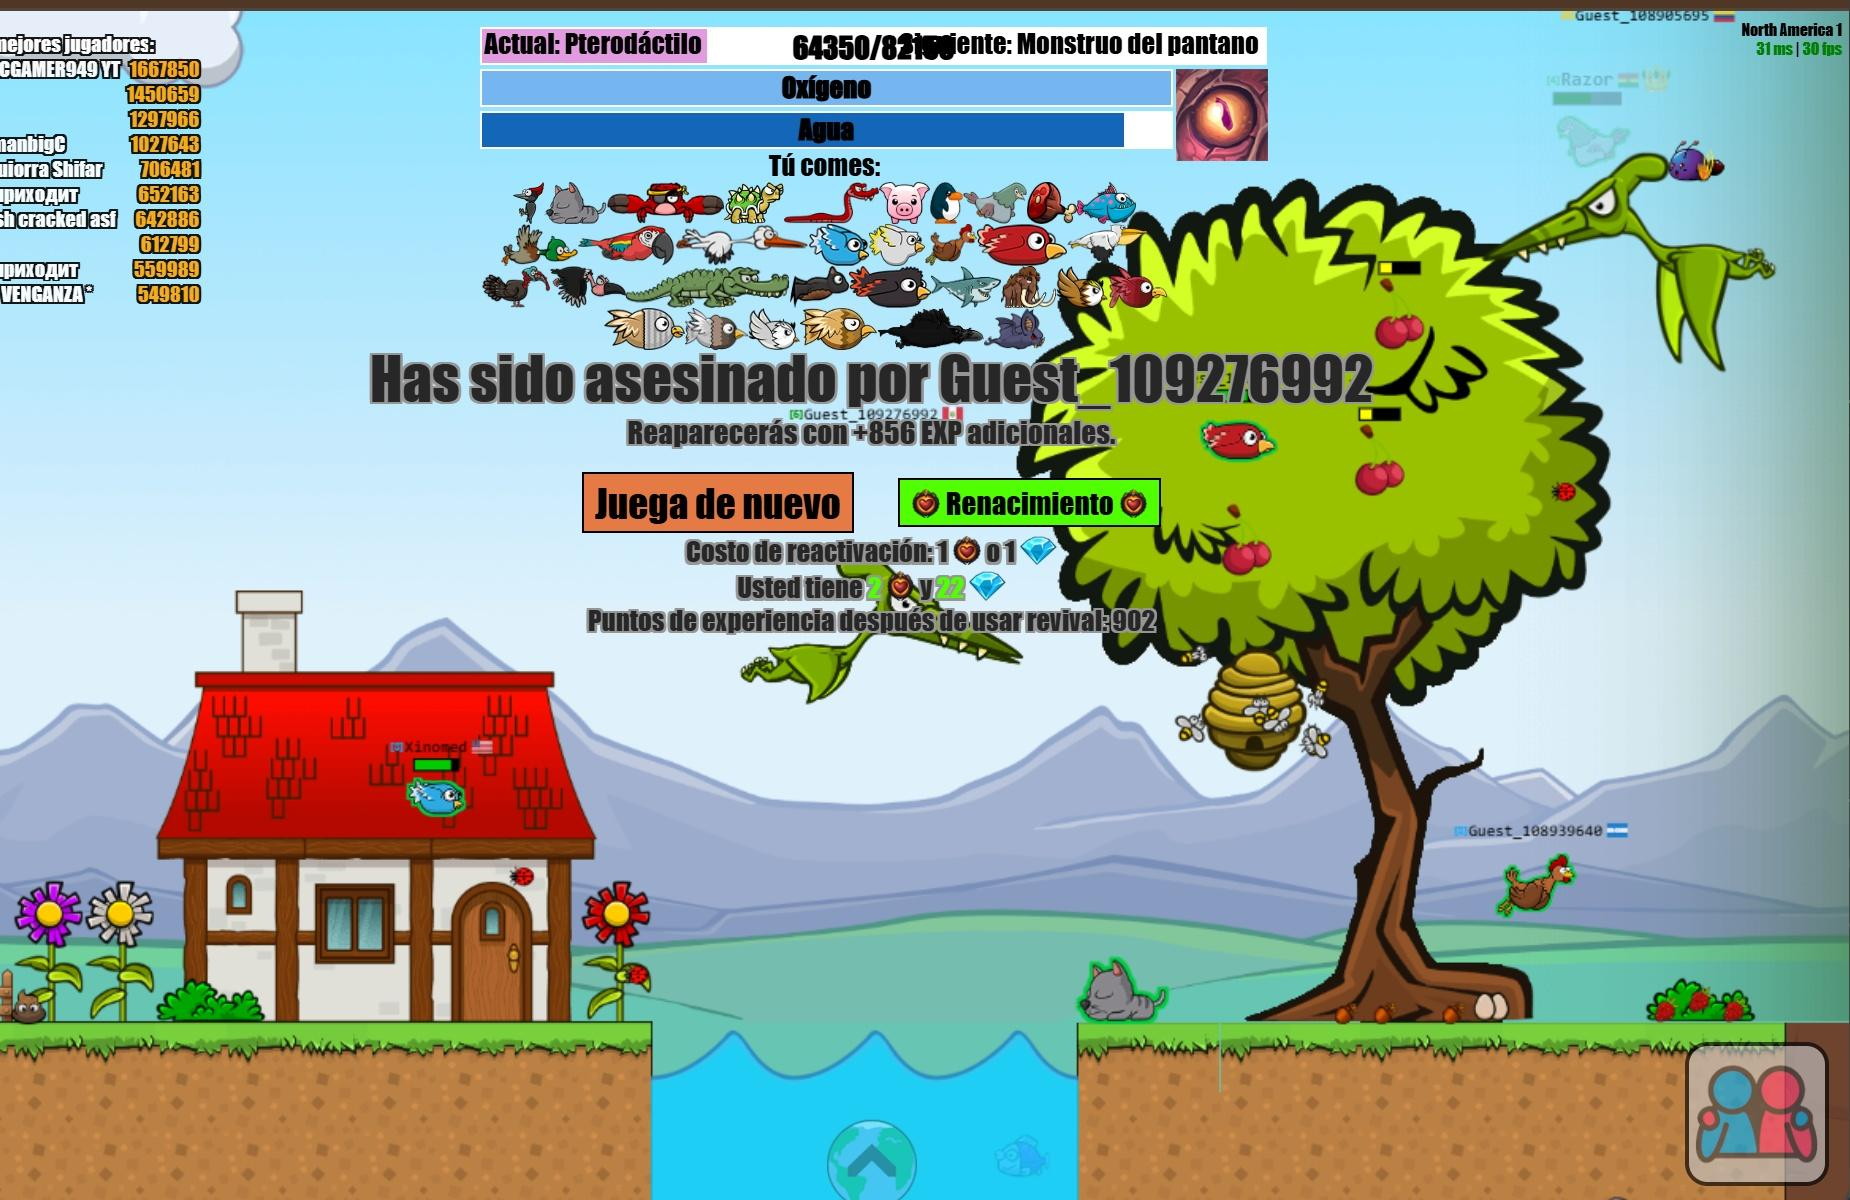aguila: (609, 306, 680, 351)
alcon: (684, 310, 746, 349)
avellana: (1332, 1002, 1356, 1022), (1375, 1003, 1394, 1025), (1443, 1003, 1462, 1022)
buho: (1058, 270, 1103, 307)
buho_nibal: (747, 305, 801, 349)
buitre: (553, 266, 627, 306)
cangrejo: (607, 179, 724, 222)
carne: (1026, 179, 1075, 225)
cerdo: (883, 179, 930, 227)
ciguenia: (677, 227, 805, 266)
cocodrilo: (623, 260, 789, 306)
cuervo: (883, 305, 982, 348)
enjambre: (1185, 639, 1323, 774)
flor: (13, 876, 84, 948), (89, 876, 158, 949), (583, 879, 653, 947)
fresa: (1683, 984, 1712, 1015), (1652, 996, 1675, 1021), (1725, 996, 1743, 1021)
gallina: (1502, 853, 1574, 922), (926, 227, 978, 264)
gato: (1081, 956, 1174, 1021), (546, 179, 604, 225)
gavilan: (802, 306, 878, 349)
gaviota: (867, 227, 928, 266)
guinda: (1356, 425, 1406, 502), (1378, 275, 1424, 352), (1224, 502, 1269, 577)
huevo: (1474, 991, 1497, 1019)
loro: (581, 225, 677, 264)
mamut: (996, 266, 1057, 309)
mariquita: (1549, 477, 1578, 504), (510, 864, 535, 887), (624, 960, 647, 983)
mascota: (1669, 136, 1722, 179)
mirlo: (852, 268, 926, 307)
murcielago: (789, 267, 845, 306)
murcielago_loco: (984, 310, 1045, 349)
p_azul: (402, 773, 468, 817), (809, 225, 870, 267)
p_carpintero: (515, 179, 543, 221)
p_marron: (1110, 270, 1170, 309)
p_rojo: (974, 221, 1067, 264), (1204, 414, 1277, 462)
paloma: (1555, 115, 1629, 162), (965, 179, 1030, 225)
pato: (499, 225, 578, 264)
pavo: (484, 266, 551, 307)
pelicano: (1069, 227, 1143, 266)
pinguino: (929, 179, 964, 228)
pirania: (1079, 179, 1138, 228)
popo: (9, 986, 54, 1021)
pterodactilo: (1482, 152, 1777, 373), (739, 560, 1022, 701)
serpiente: (785, 183, 879, 225)
tiburon: (930, 267, 999, 302)
tortuga: (725, 179, 786, 227)
